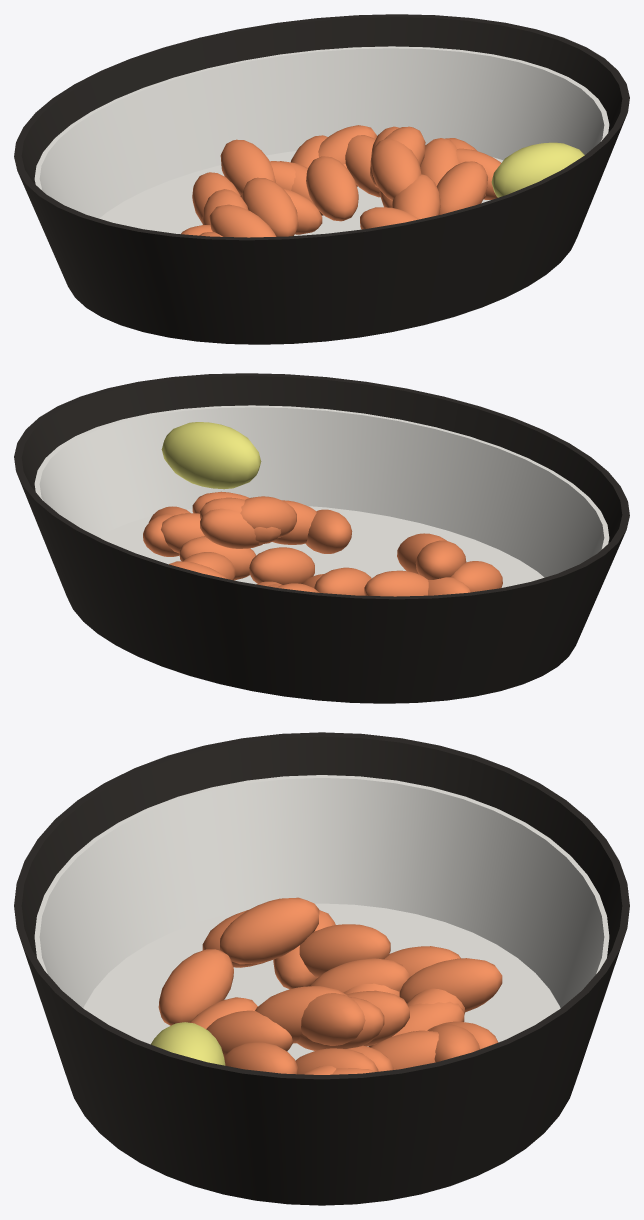
Rendered from porcao-camarao.glb.
The picture shows the model from 3 angles, top to bottom: view 1: azimuth 30°, elevation 25°; view 2: azimuth 150°, elevation 25°; view 3: azimuth 270°, elevation 25°; orthographic projection. The views are drawn at different scales.
Parts seen in each view (by area): view 1: porcao-camarao; view 2: porcao-camarao; view 3: porcao-camarao.
Part boxes in pixels (left/top/right/bottom): porcao-camarao: left=14, top=14, right=629, bottom=344; porcao-camarao: left=14, top=373, right=629, bottom=703; porcao-camarao: left=14, top=732, right=629, bottom=1205.
Size of the model in its own units: 0.24 by 0.05 by 0.18.
